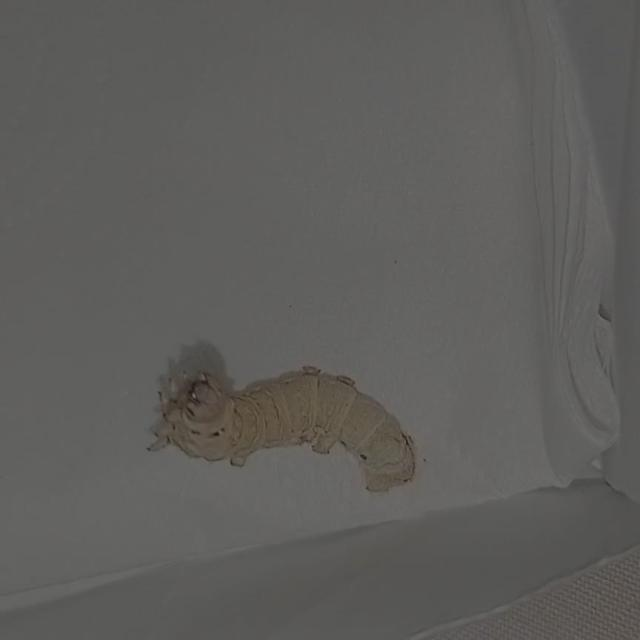Healthy: (120, 304, 455, 534)
